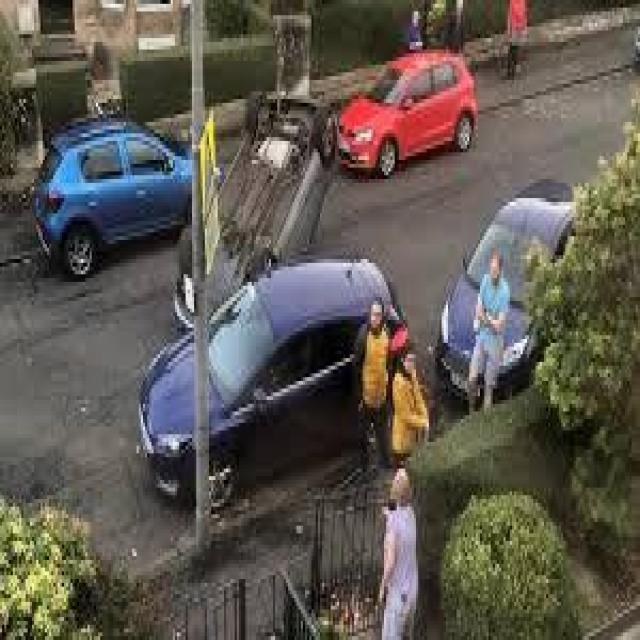severe: (170, 80, 340, 335)
